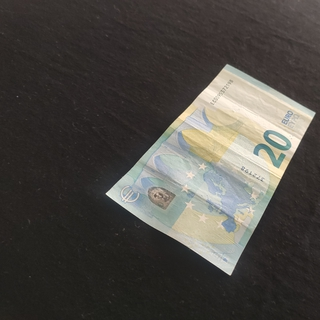20EUROBack: (104, 63, 315, 276)
